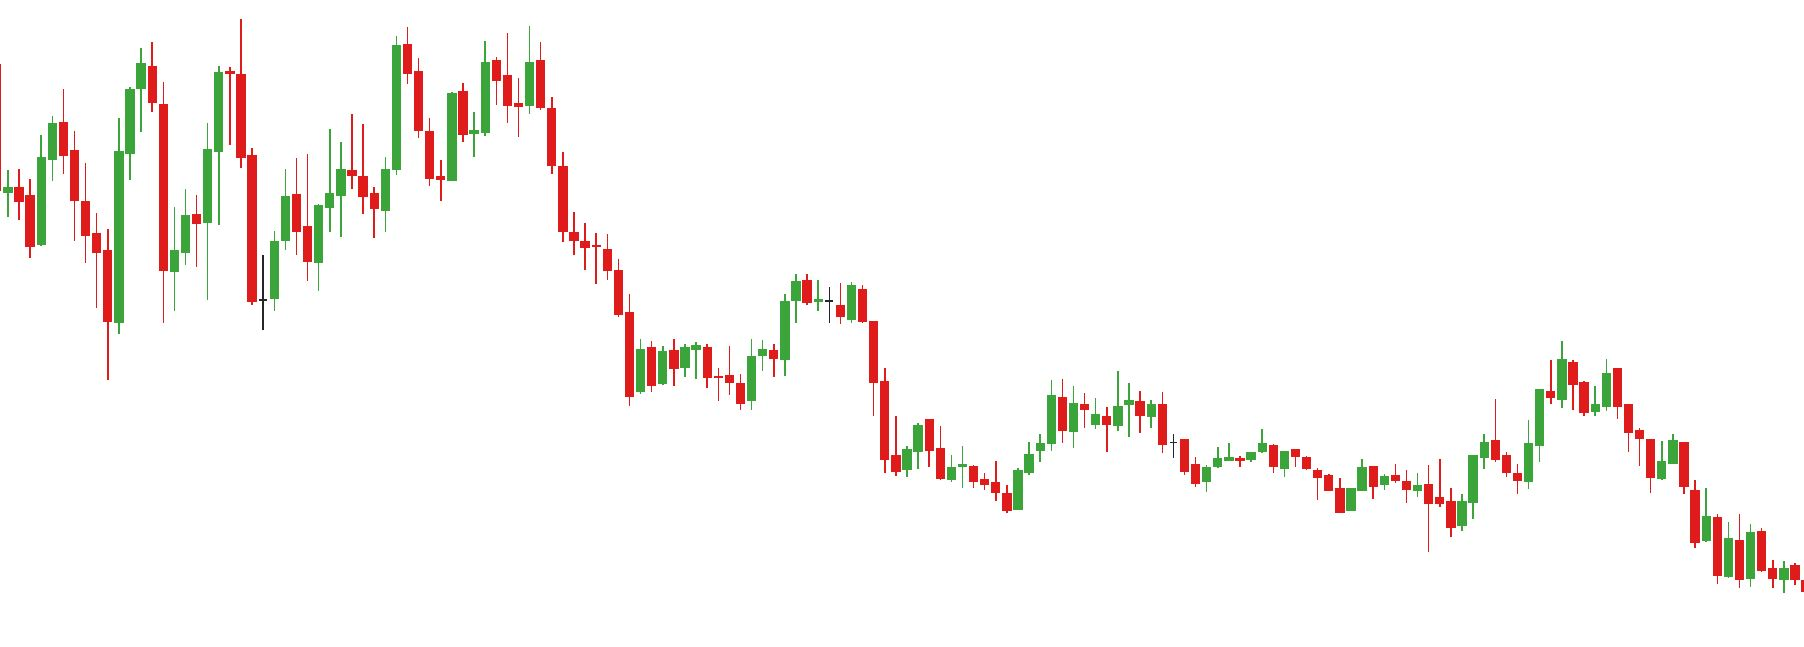sell: (44, 41, 156, 174)
